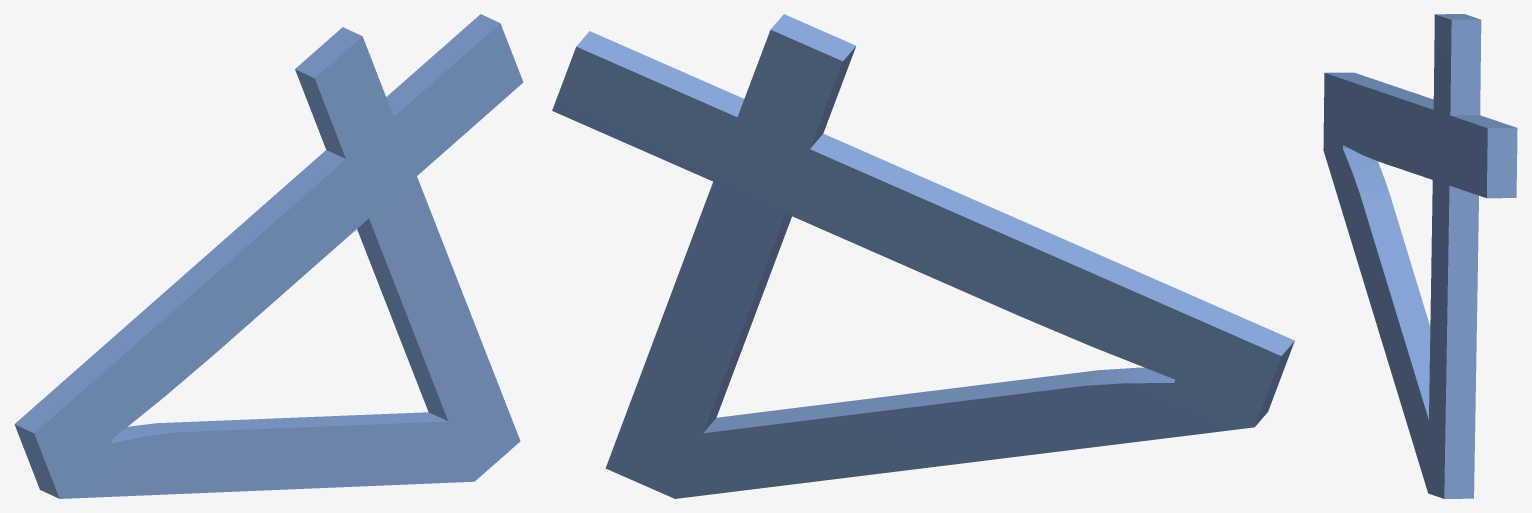
The model's file is New_Number_4.gltf.
The picture shows the model from 3 angles, left to right: view 1: azimuth 30°, elevation 25°; view 2: azimuth 150°, elevation 25°; view 3: azimuth 270°, elevation 25°; orthographic projection. The views are drawn at different scales.
Visible parts, largest first — view 1: Part 130; view 2: Part 130; view 3: Part 130.
Boxes of the visible parts, bbox=[...] form: Part 130: bbox=[14, 14, 523, 498]; Part 130: bbox=[552, 14, 1294, 498]; Part 130: bbox=[1323, 14, 1517, 498].
Size of the model in its own units: 0.00529 by 0.00403 by 0.00165.
